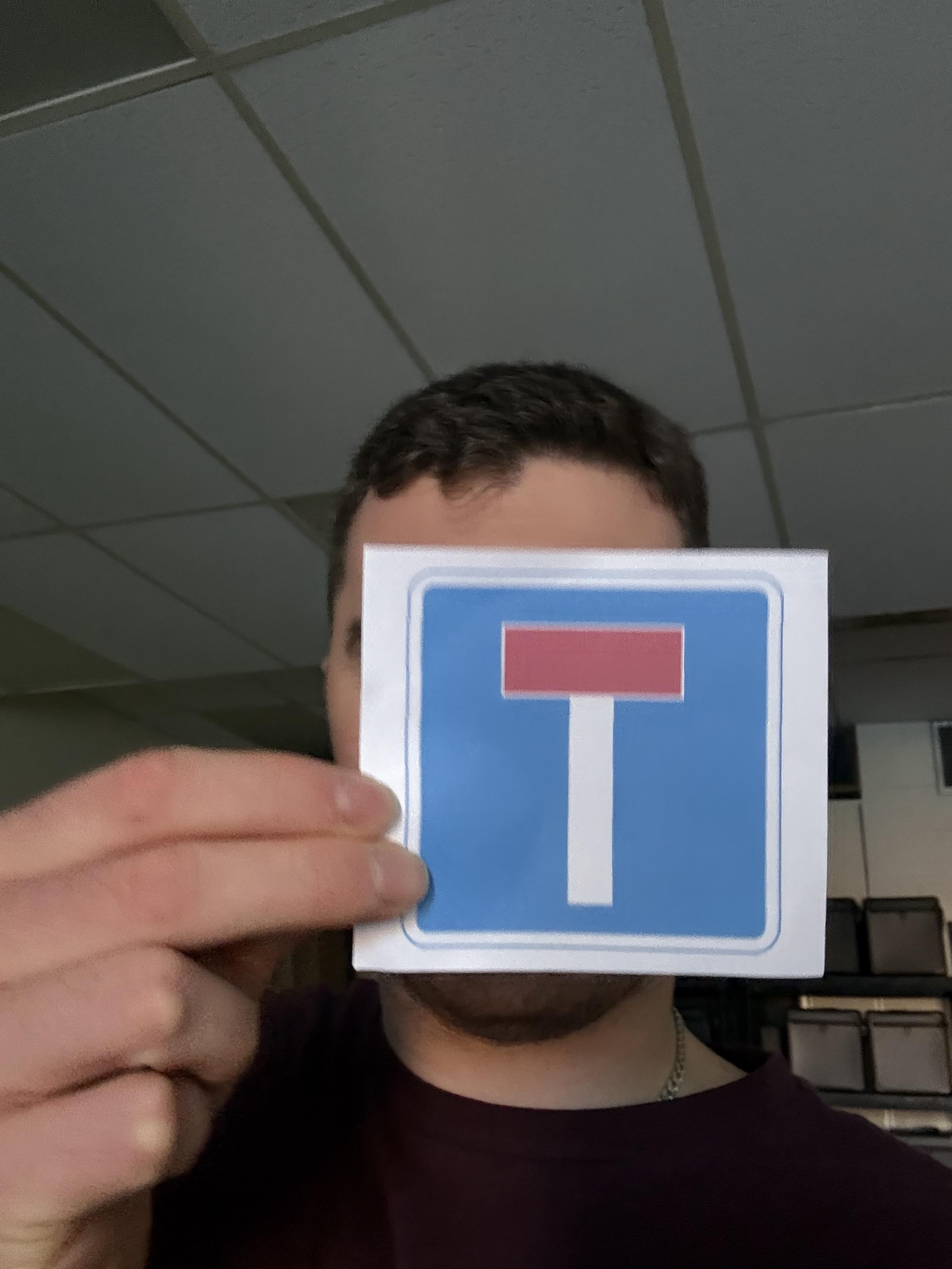Dead End: (269, 726, 622, 1268)
